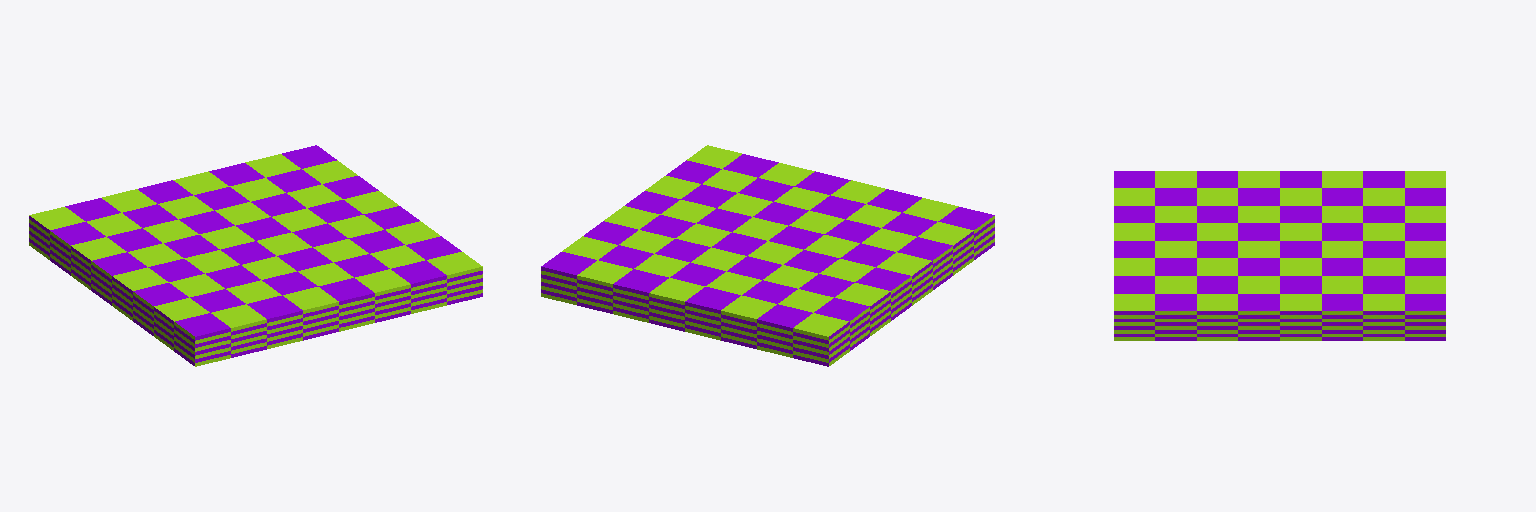
The picture shows the model from 3 angles: view 1: azimuth 30°, elevation 25°; view 2: azimuth 150°, elevation 25°; view 3: azimuth 270°, elevation 25°; orthographic projection.
Visible parts, largest first — view 1: Cube; view 2: Cube; view 3: Cube.
Part boxes in pixels (x1,y1,x2,y2): Cube: (29, 145, 482, 366); Cube: (541, 145, 994, 366); Cube: (1114, 171, 1445, 340).
Size of the model in its own units: 20 by 2 by 20.
Materials: 1 (1 with a texture image).